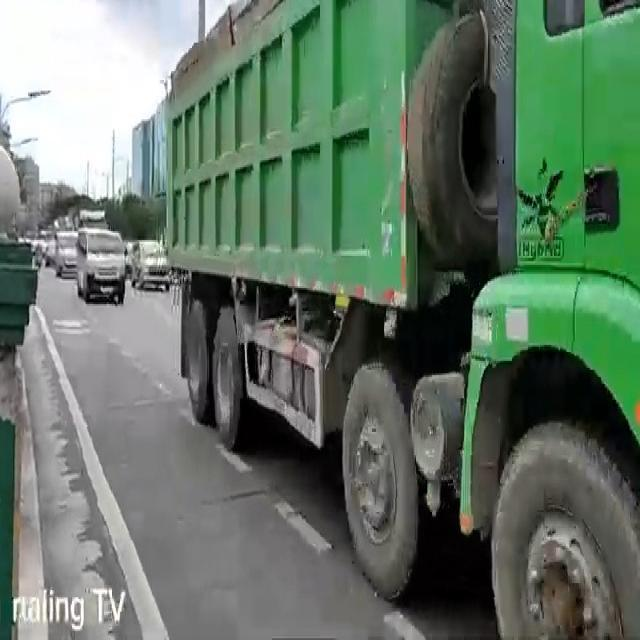car: (76, 231, 125, 307), (132, 240, 171, 294)
truck: (162, 0, 640, 640)
